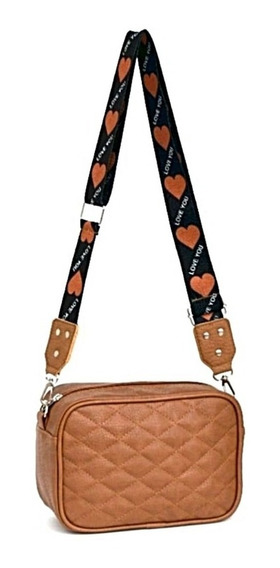cartera: (33, 27, 247, 533)
